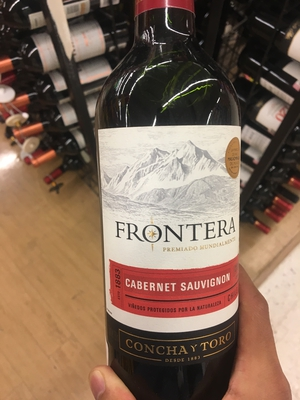frontera cabernet sauvignon: (90, 6, 250, 375)
